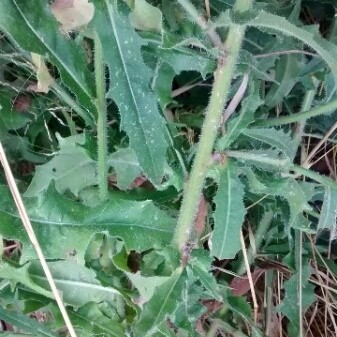obstacle: (57, 27, 267, 313)
